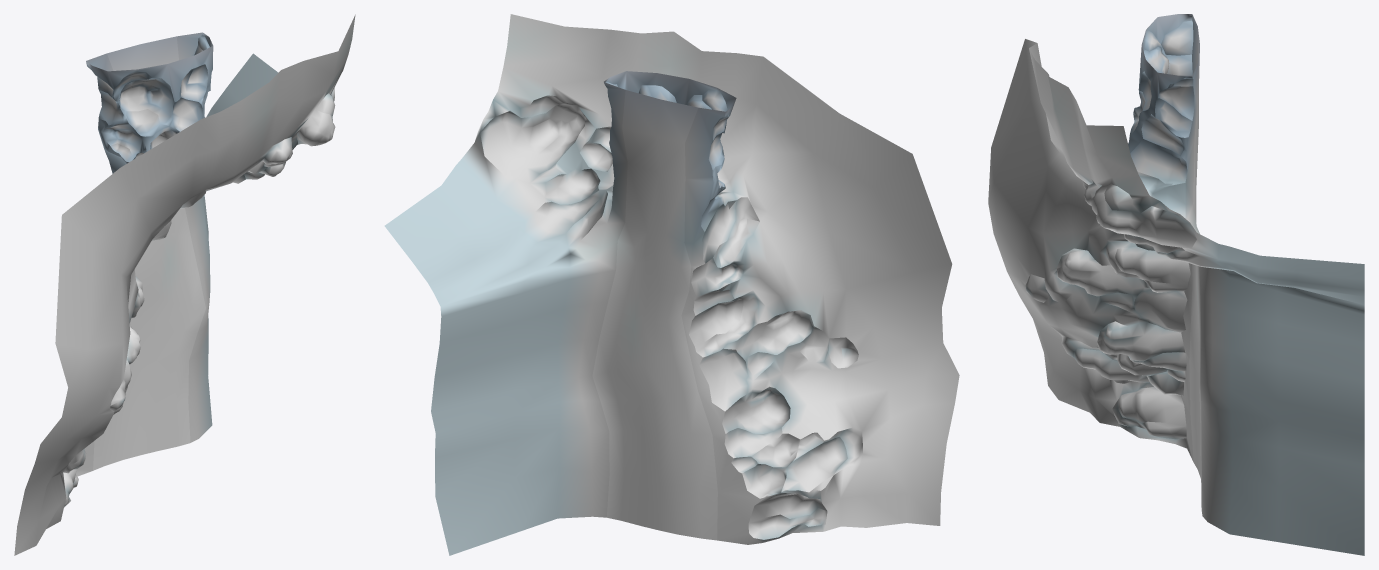
The model's file is Transition_IceCaveA_flip.glb.
The picture shows the model from 3 angles, left to right: view 1: azimuth 30°, elevation 25°; view 2: azimuth 150°, elevation 25°; view 3: azimuth 270°, elevation 25°; orthographic projection. The views are drawn at different scales.
Visible parts, largest first — view 1: MeshNode_0, MeshNode_1; view 2: MeshNode_0, MeshNode_1; view 3: MeshNode_0, MeshNode_1.
Boxes of the visible parts, <box> form: MeshNode_0: <box>14,14,355,555</box>; MeshNode_1: <box>93,36,205,470</box>; MeshNode_0: <box>384,14,959,555</box>; MeshNode_1: <box>592,90,717,540</box>; MeshNode_0: <box>988,14,1364,555</box>; MeshNode_1: <box>1189,29,1202,513</box>.
Bounding box in the file's own units: 125 × 132 × 98.24.
